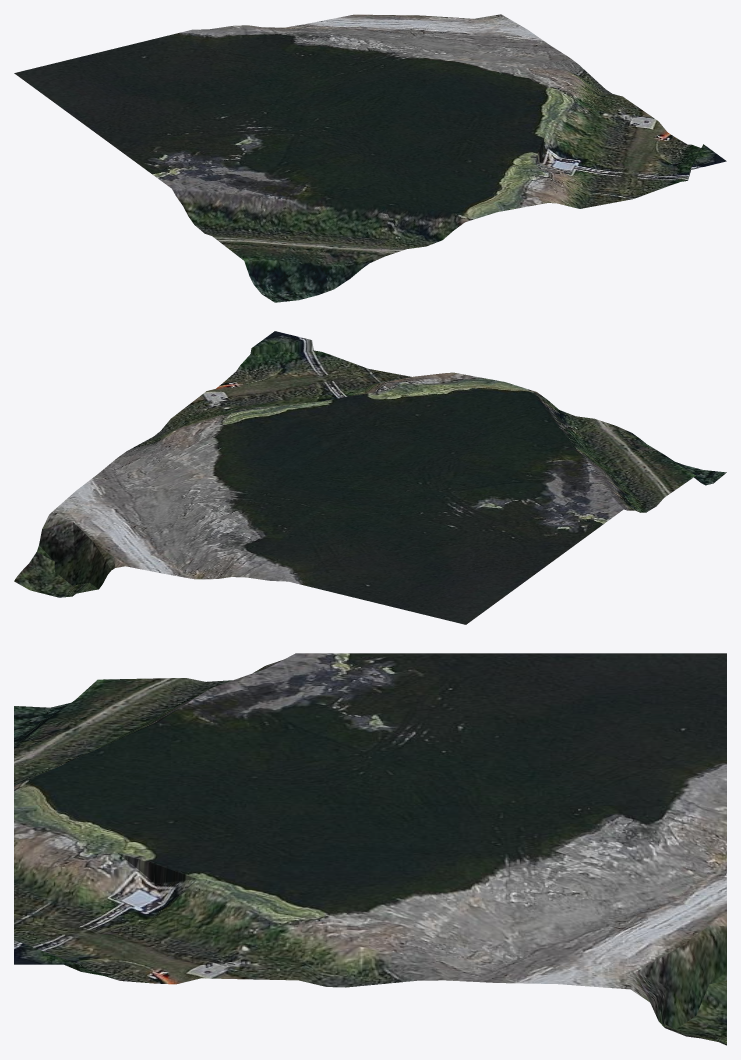
File: map_15_8177_13777.dae
3 views of the same model, one above another, from view 1: azimuth 30°, elevation 25°; view 2: azimuth 150°, elevation 25°; view 3: azimuth 270°, elevation 25° (orthographic). The views are drawn at different scales.
Parts seen in each view (by area): view 1: Ter0; view 2: Ter0; view 3: Ter0.
Boxes of the visible parts, bbox=[...] form: Ter0: bbox=[14, 14, 726, 302]; Ter0: bbox=[14, 331, 726, 624]; Ter0: bbox=[14, 653, 726, 1045].
Size of the model in its own units: 63.87 by 63.88 by 9.73.
3 materials, 3 textured.
